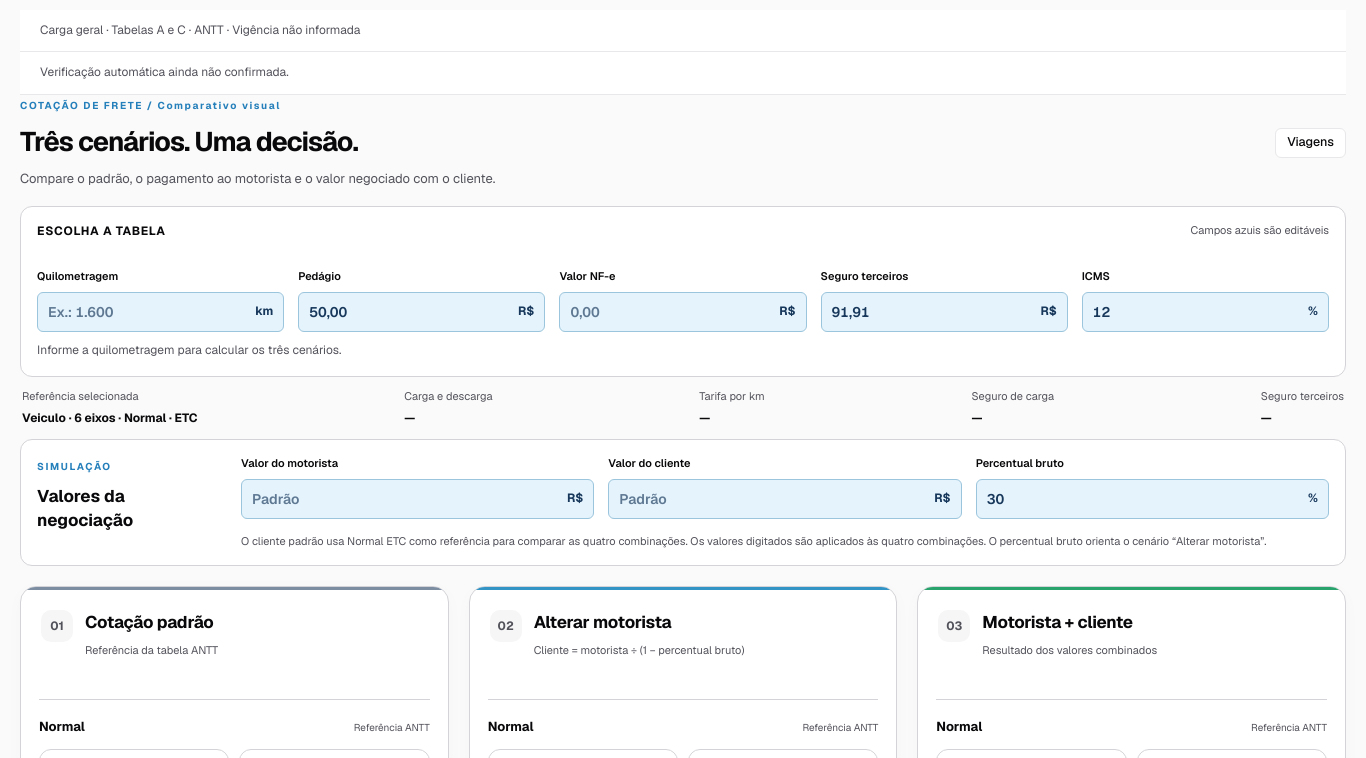
blocks incomplete comparisons and recovers on an input change
The width and height of the screenshot is (1366, 758).
Type "1600" into the field labelled "Quilometragem".
click(147, 312); type("1600")  # box [38,293,255,331]
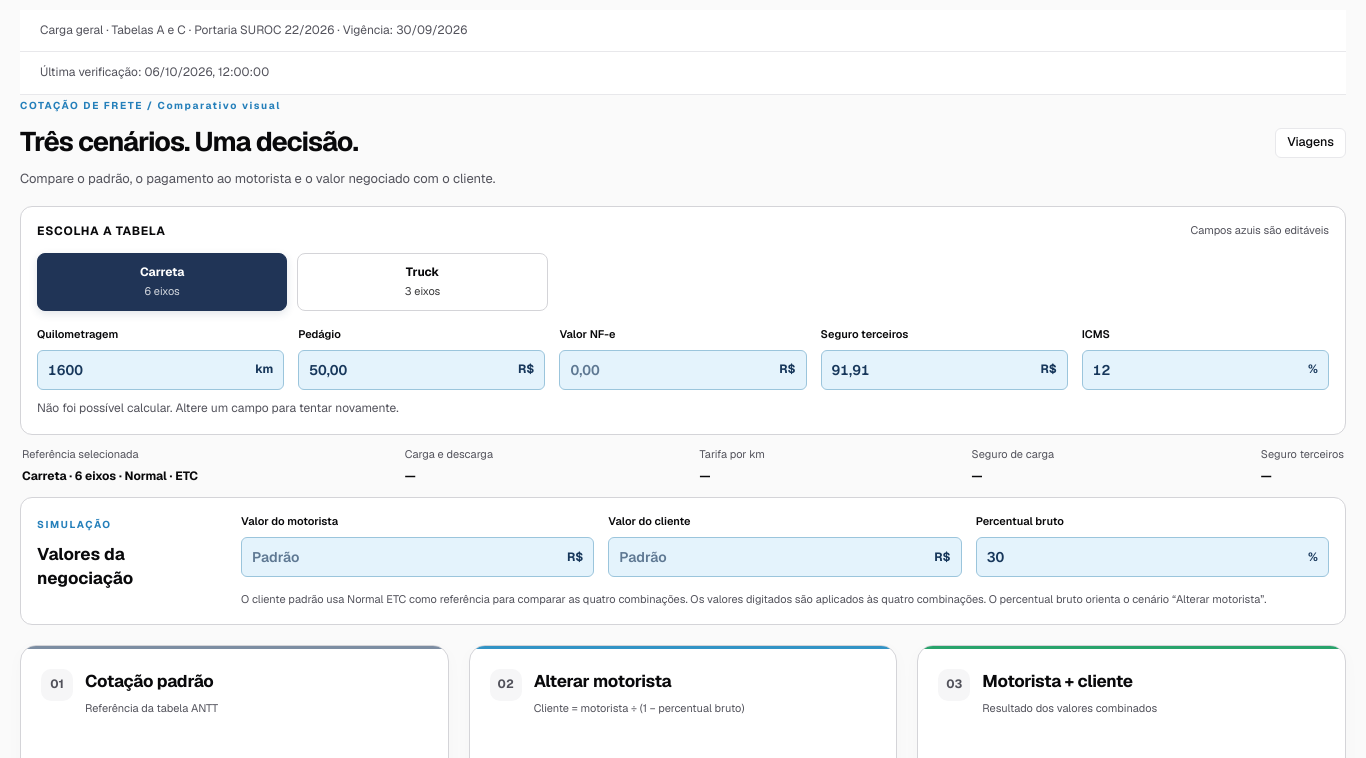
expect the text "Não foi possível calcular. Altere um campo para tentar novamente." is shown: met, box [37,400,399,416]
Replace the text in the field labelled "Quilometragem" with "1700" at (147, 370), box [38,351,255,389]
(page scrolled)
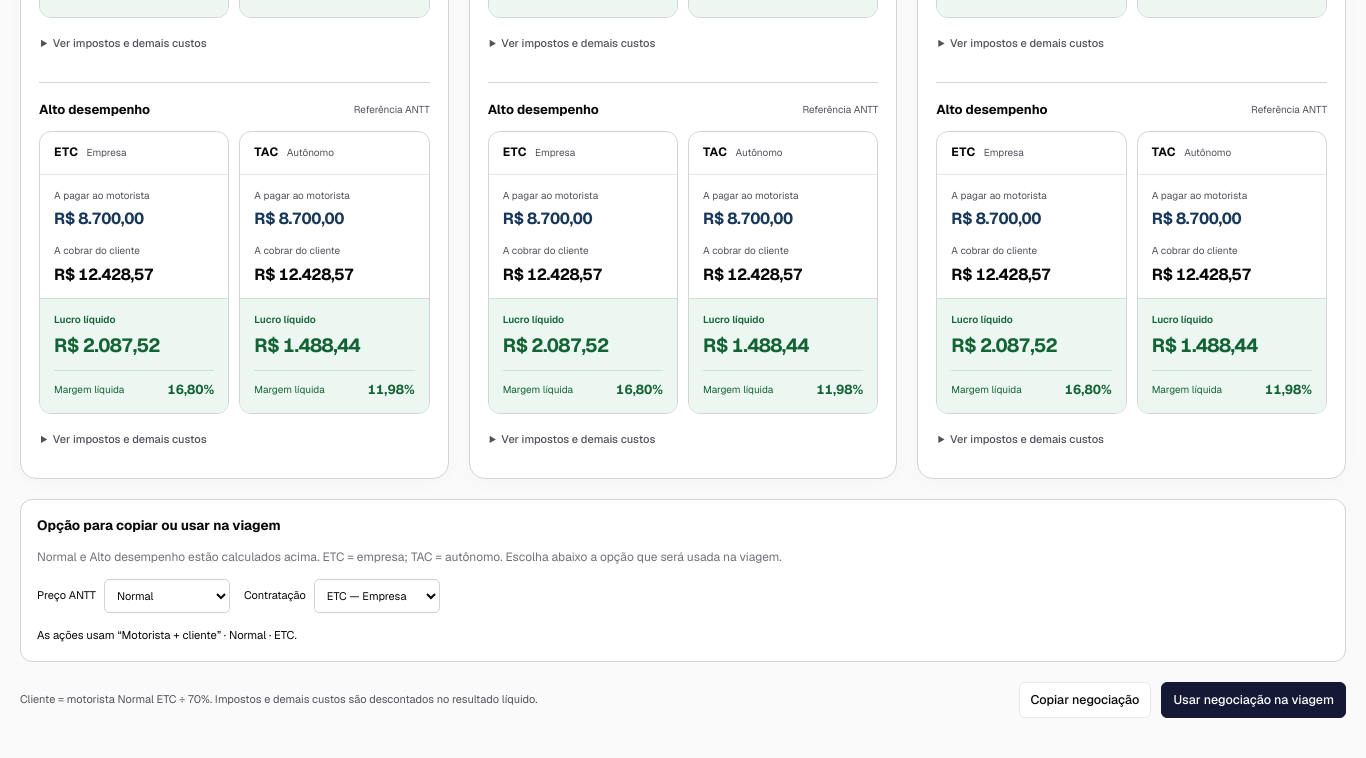
expect the button "Copiar negociação" is enabled: met, box [1018,682,1151,718]
